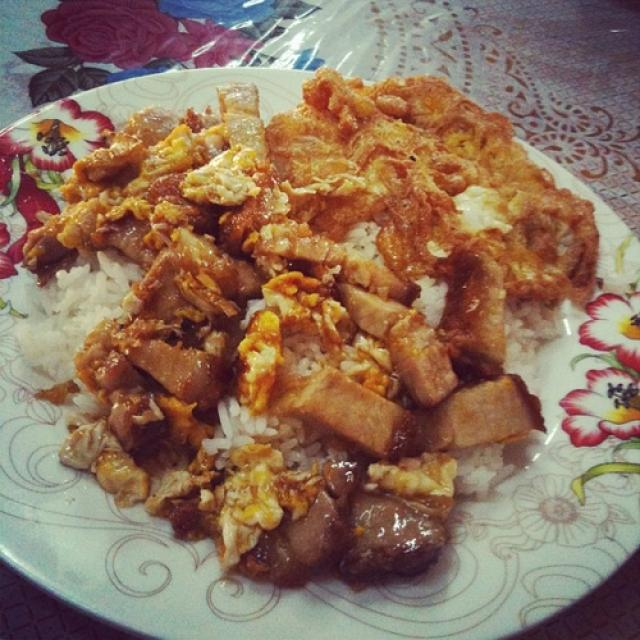猪肉菜式: (23, 52, 617, 608)
